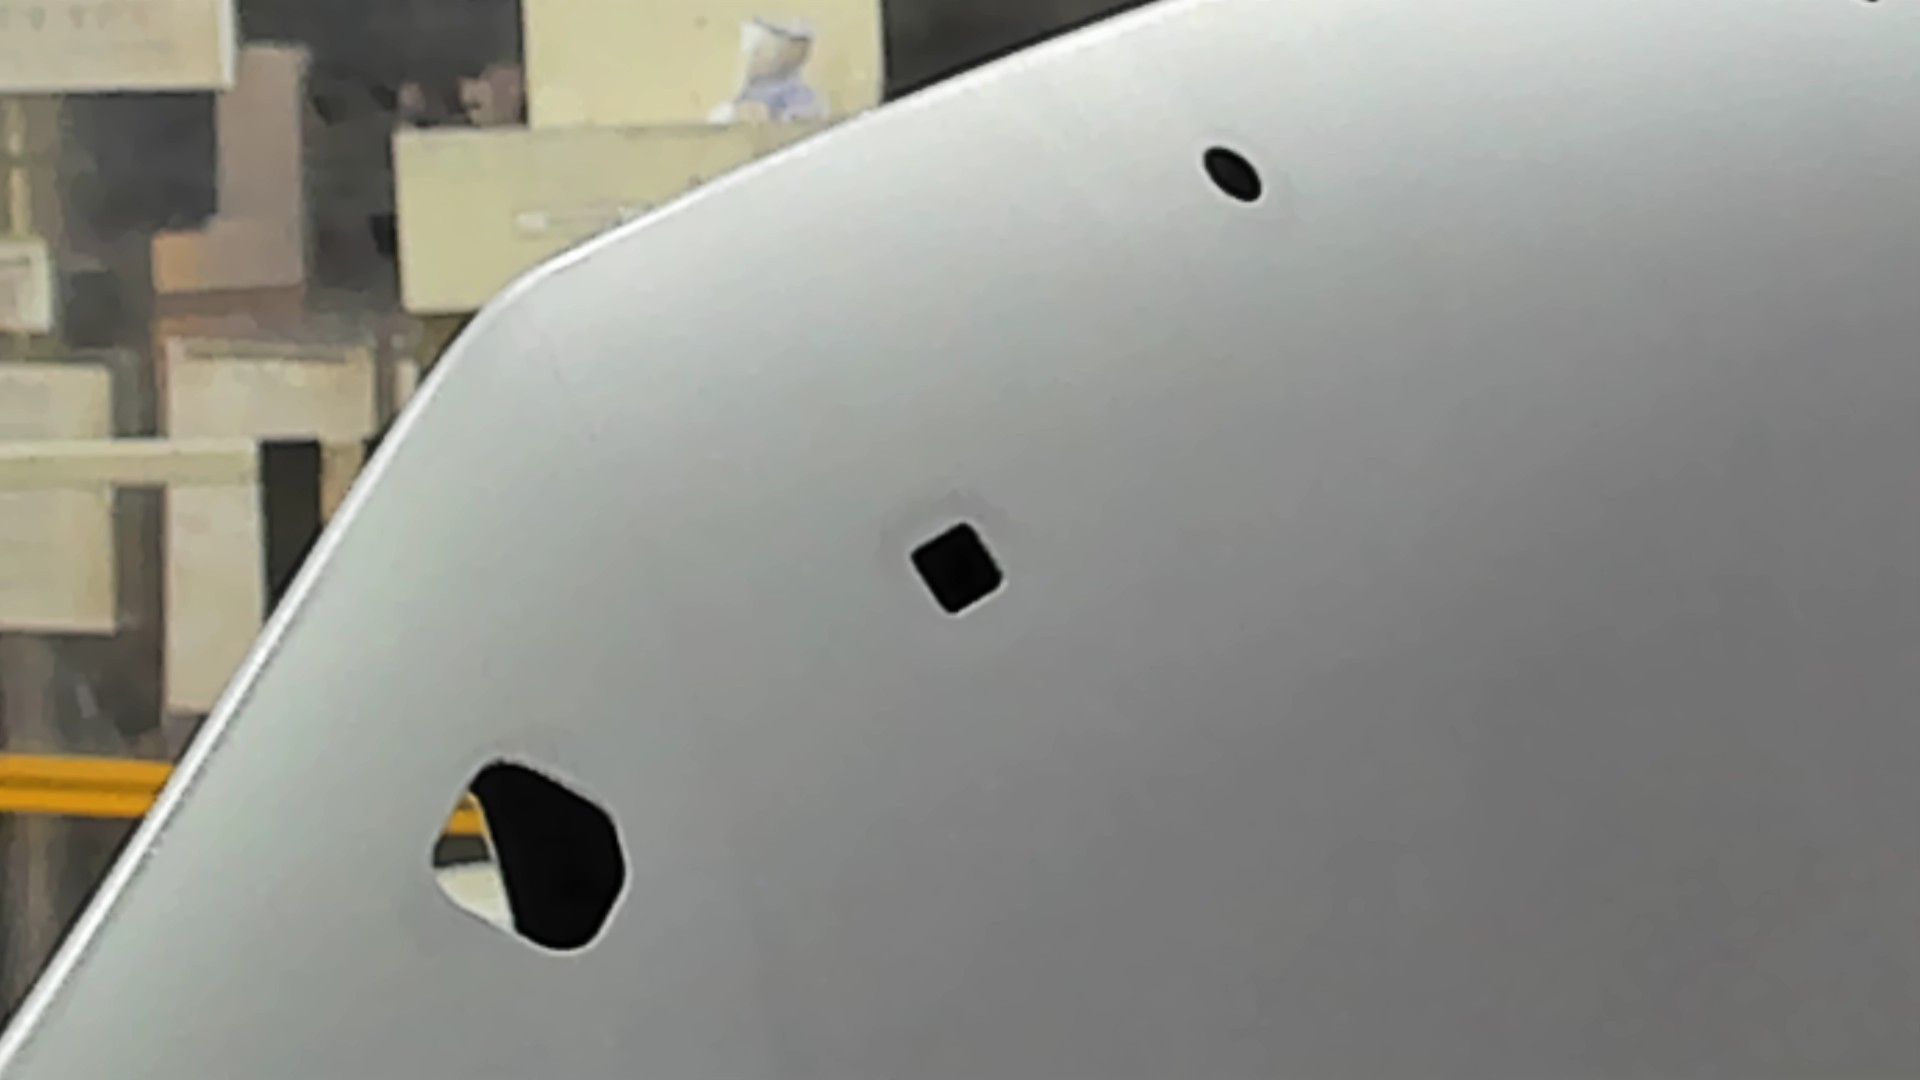chico: (1197, 141, 1266, 208)
grande: (425, 754, 637, 961)
mediano: (897, 513, 1011, 624)
